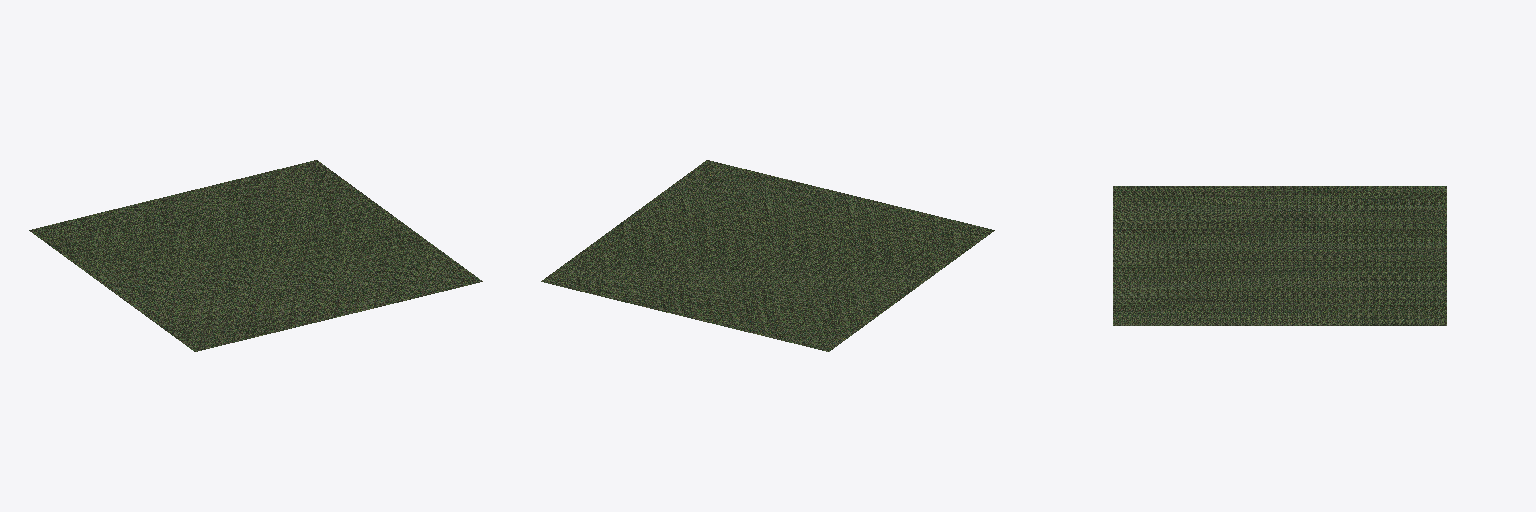
The picture shows the model from 3 angles: view 1: azimuth 30°, elevation 25°; view 2: azimuth 150°, elevation 25°; view 3: azimuth 270°, elevation 25°; orthographic projection.
Parts seen in each view (by area): view 1: Plane; view 2: Plane; view 3: Plane.
Boxes of the visible parts, x1=… form: Plane: x1=29, y1=160, x2=482, y2=351; Plane: x1=541, y1=160, x2=994, y2=351; Plane: x1=1113, y1=186, x2=1446, y2=325.
Bounding box in the file's own units: 2000 × 0 × 2000.
Materials: 1 (1 with a texture image).